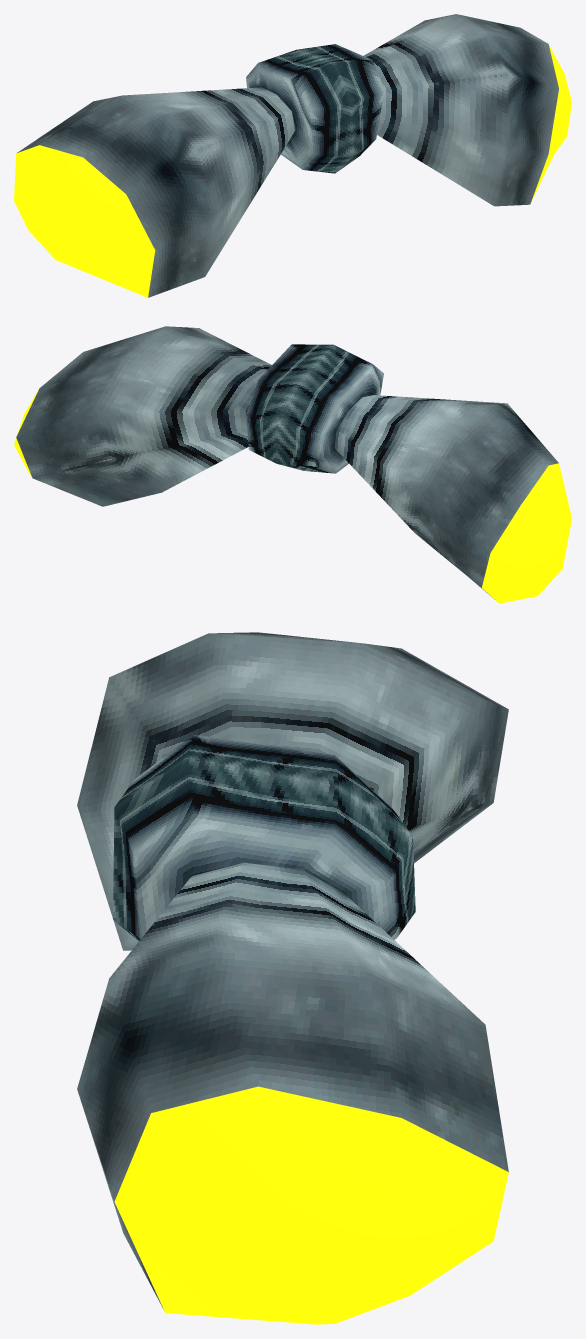
File: stank_ore_3db.gltf
The picture shows the model from 3 angles, top to bottom: view 1: azimuth 30°, elevation 25°; view 2: azimuth 150°, elevation 25°; view 3: azimuth 270°, elevation 25°; orthographic projection. The views are drawn at different scales.
Parts seen in each view (by area): view 1: stank_ore.3db; view 2: stank_ore.3db; view 3: stank_ore.3db.
Boxes of the visible parts, x1=… form: stank_ore.3db: x1=14, y1=14, x2=571, y2=297; stank_ore.3db: x1=14, y1=326, x2=571, y2=603; stank_ore.3db: x1=77, y1=632, x2=508, y2=1324.
Bounding box in the file's own units: 4.52 × 1.54 × 1.61.
3 materials, 3 textured.
